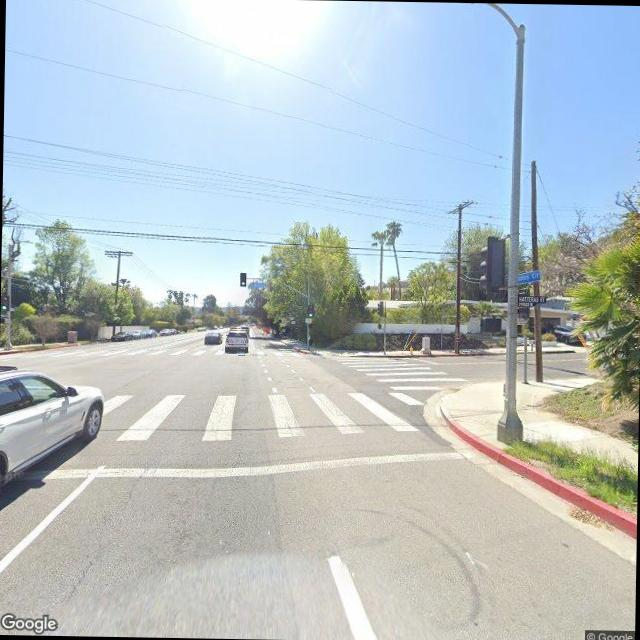pothole: (60, 538, 101, 602)
